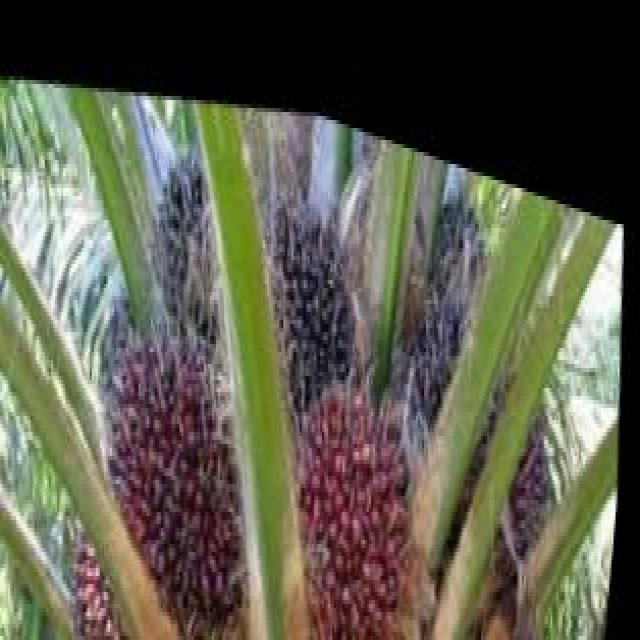Ripefruit: (89, 268, 276, 640), (284, 324, 435, 640), (66, 496, 175, 640)
